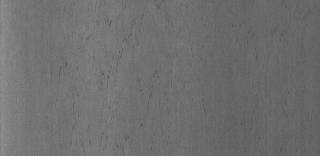silk spot: (78, 14, 160, 140)
